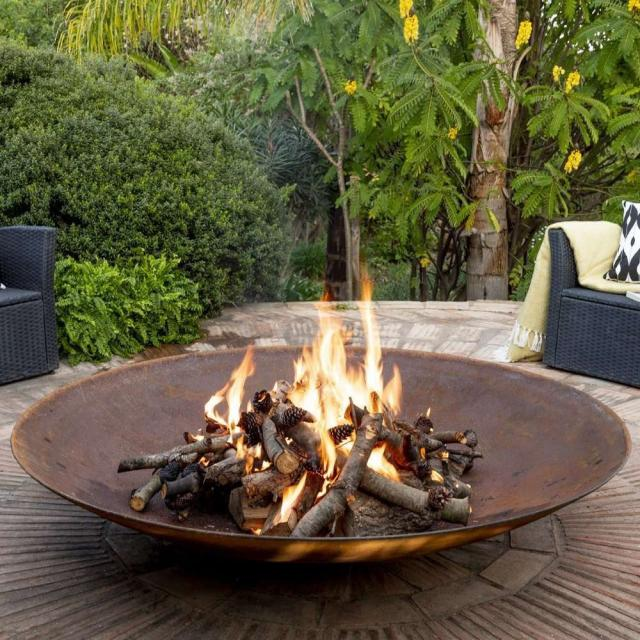fire: (289, 275, 401, 469), (203, 341, 253, 428), (228, 429, 261, 472)
